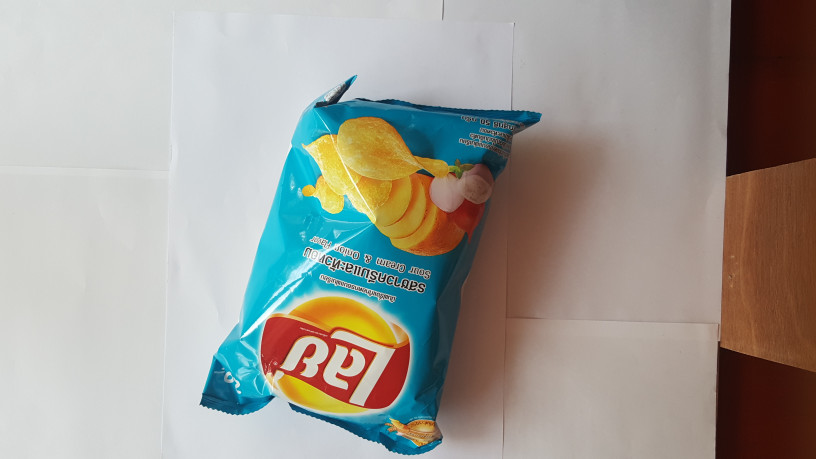lays-onion: (196, 79, 540, 459)
